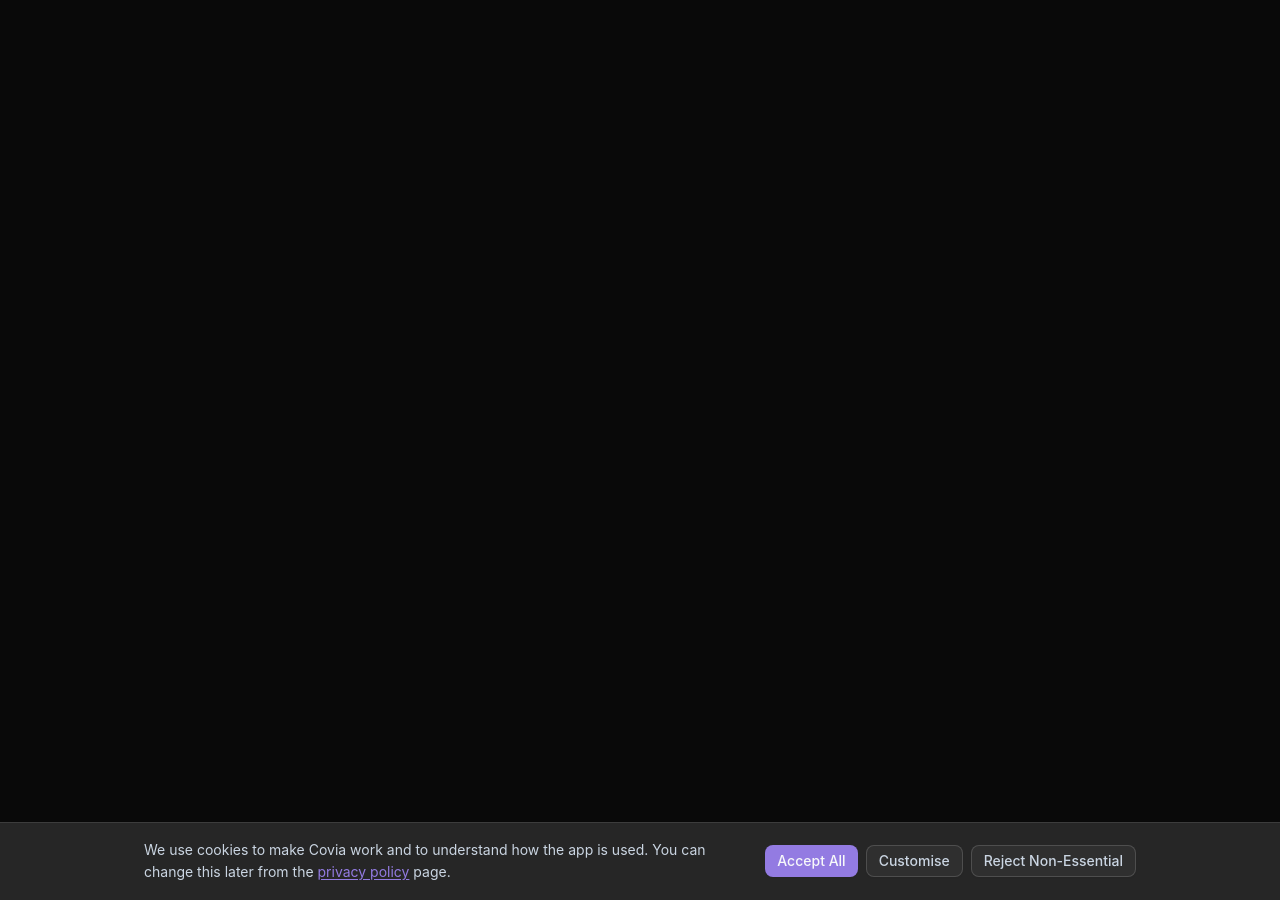
Test: CookieConsentComponent › will not let the essential category be switched off
Click the button "Customise" at x=914, y=861, box 866,845 -> 963,877
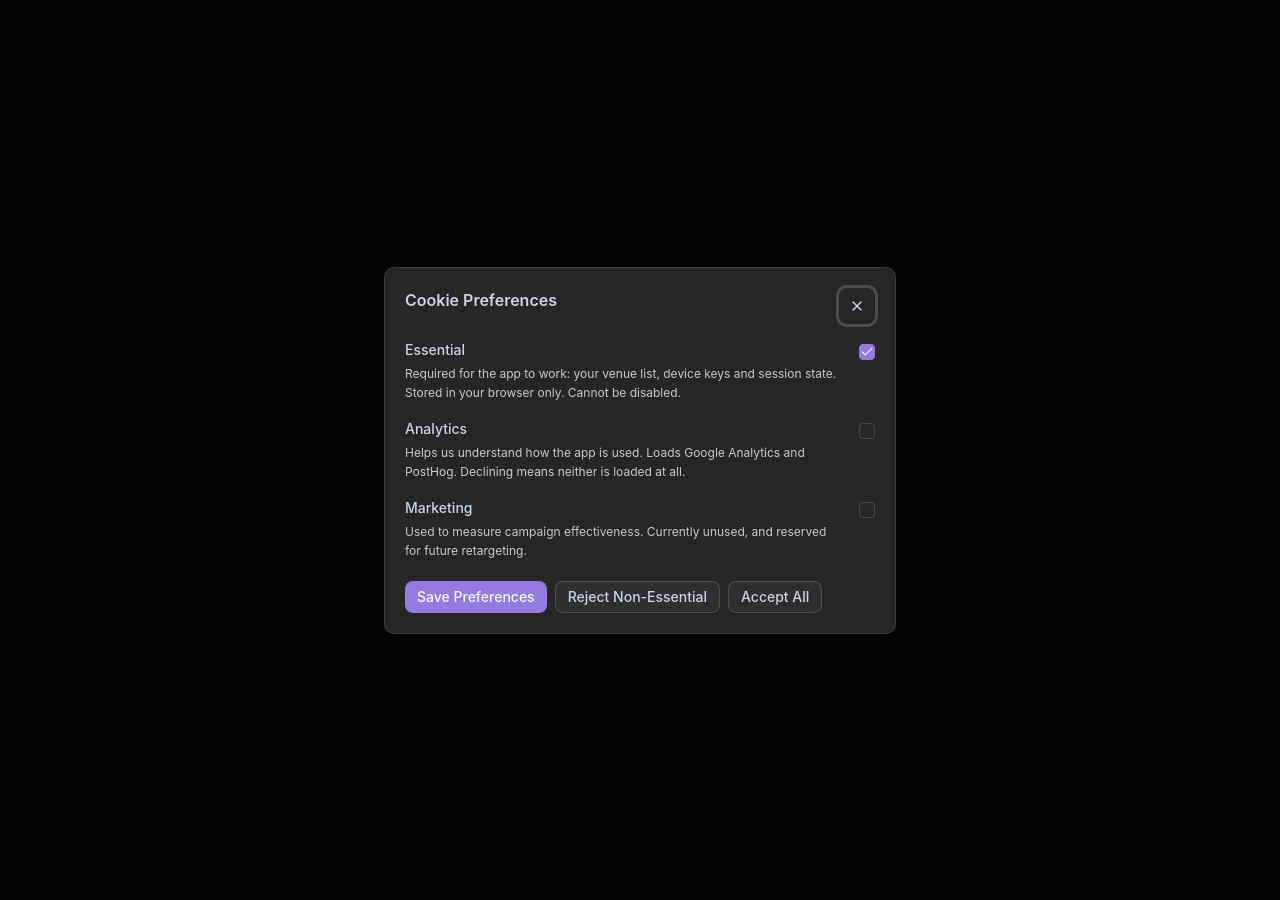
Result: the checkbox named "Toggle Essential" is disabled at 859,344 -> 875,360
